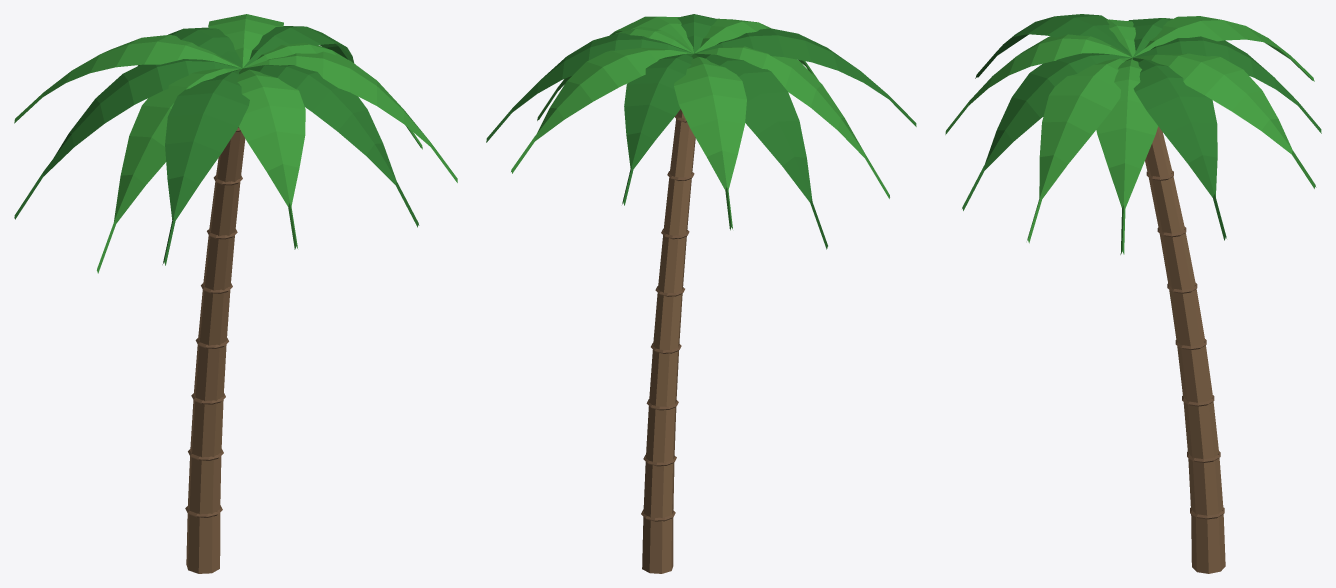
Rendered from palm.glb.
The picture shows the model from 3 angles, left to right: view 1: azimuth 30°, elevation 25°; view 2: azimuth 150°, elevation 25°; view 3: azimuth 270°, elevation 25°; orthographic projection. The views are drawn at different scales.
Parts seen in each view (by area): view 1: palm; view 2: palm; view 3: palm.
Boxes of the visible parts, x1,y1,x2,y2 form: palm: (14,14,457,573); palm: (486,14,916,573); palm: (945,14,1321,573).
Size of the model in its own units: 4.8 by 6.84 by 4.45.
